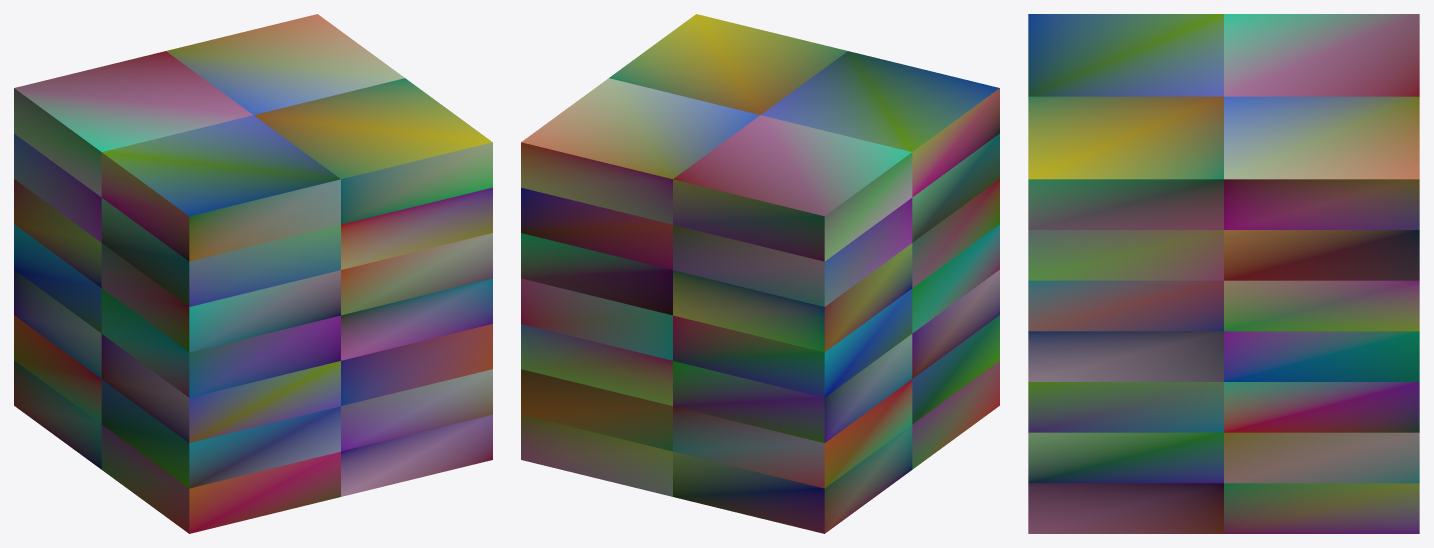
File: ShaderTest.fbx
The picture shows the model from 3 angles, left to right: view 1: azimuth 30°, elevation 25°; view 2: azimuth 150°, elevation 25°; view 3: azimuth 270°, elevation 25°; orthographic projection. The views are drawn at different scales.
Parts seen in each view (by area): view 1: 3, 1, 4, 2; view 2: 4, 2, 3, 1; view 3: 1, 2, 3, 4.
Boxes of the visible parts, box(x1,y1,x2,y2) form: 3: box(101, 115, 340, 533); 1: box(254, 78, 492, 496); 4: box(14, 51, 252, 469); 2: box(166, 14, 404, 114); 4: box(673, 115, 912, 533); 2: box(521, 78, 759, 496); 3: box(761, 51, 999, 469); 1: box(609, 14, 847, 114); 1: box(1028, 96, 1223, 533); 2: box(1224, 96, 1419, 533); 3: box(1028, 14, 1223, 96); 4: box(1224, 14, 1419, 96).
Size of the model in its own units: 200 by 200 by 200.
